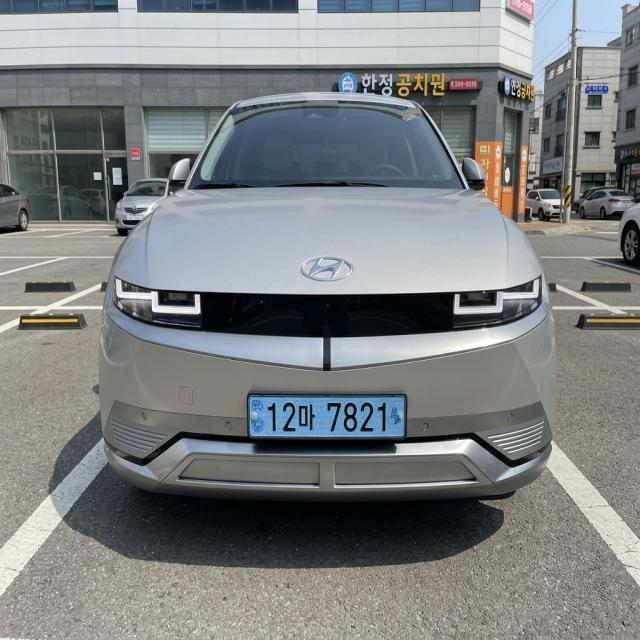car: (231, 379, 433, 464)
carev: (244, 391, 267, 443), (386, 395, 409, 440)
